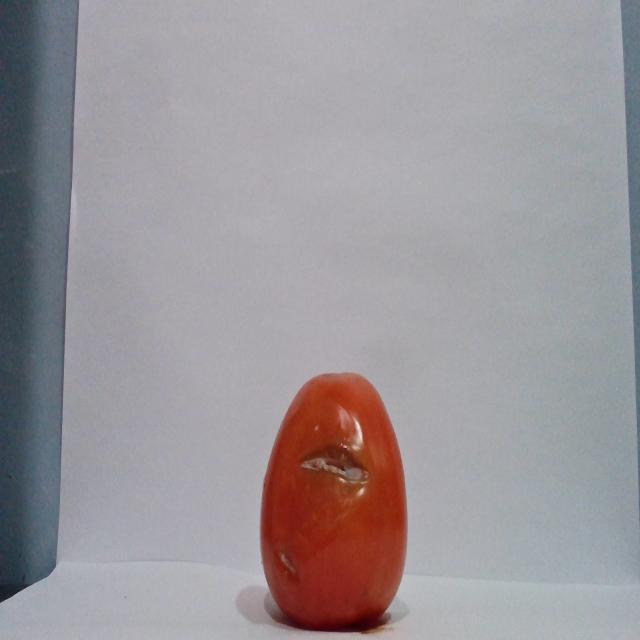Red: (258, 370, 408, 630)
